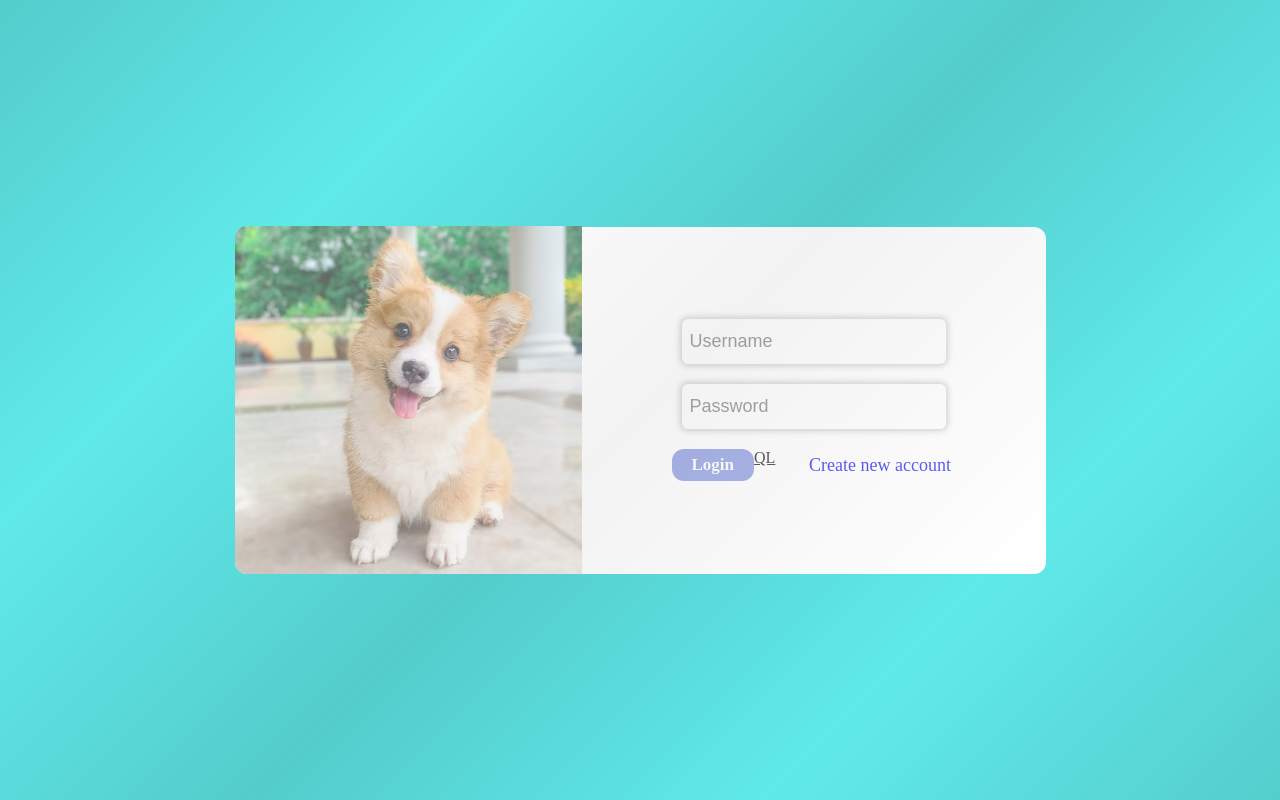
Test case: Fetch API › Create account success will show success message
Click the link with aria-label "sign-up-link": [880, 465] box x1=809 y1=449 x2=951 y2=481
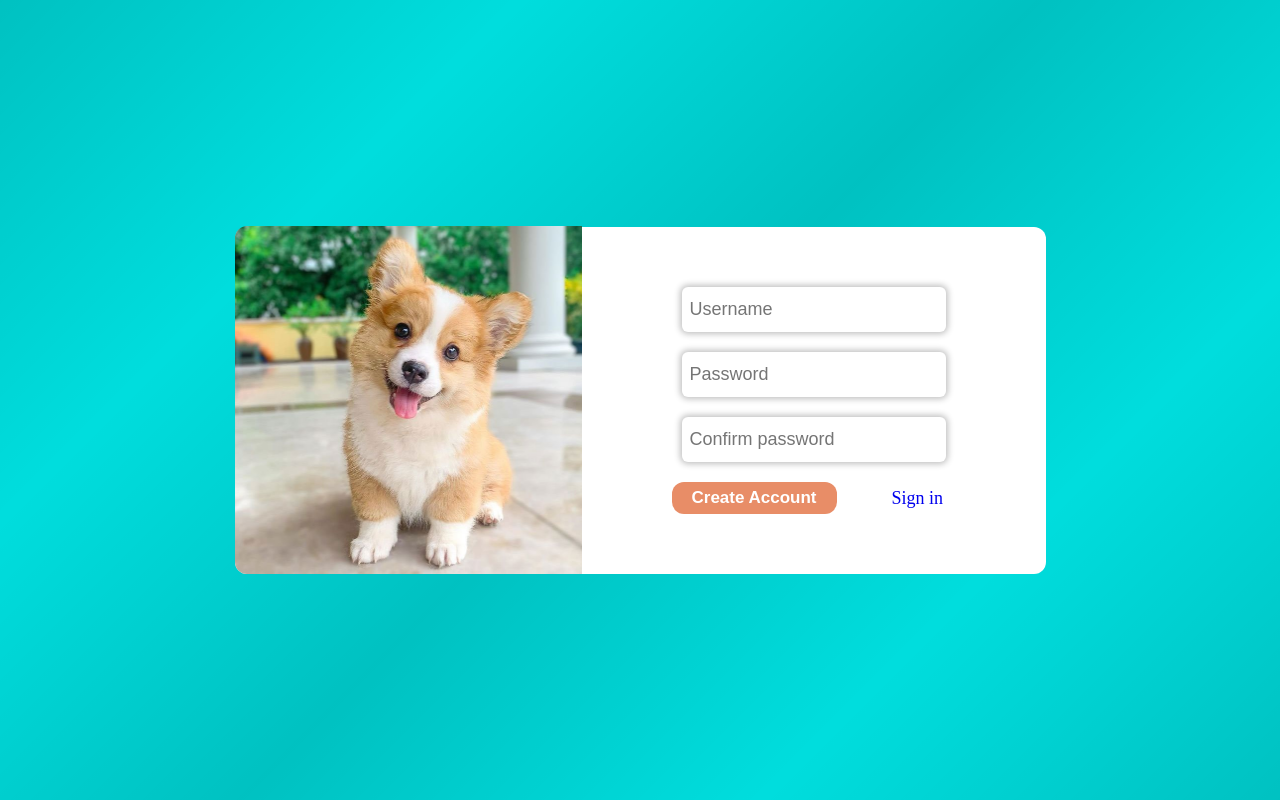
Result: the button with test id "create-account" is shown
Click the button with test id "create-account": [754, 498] box x1=672 y1=482 x2=836 y2=514
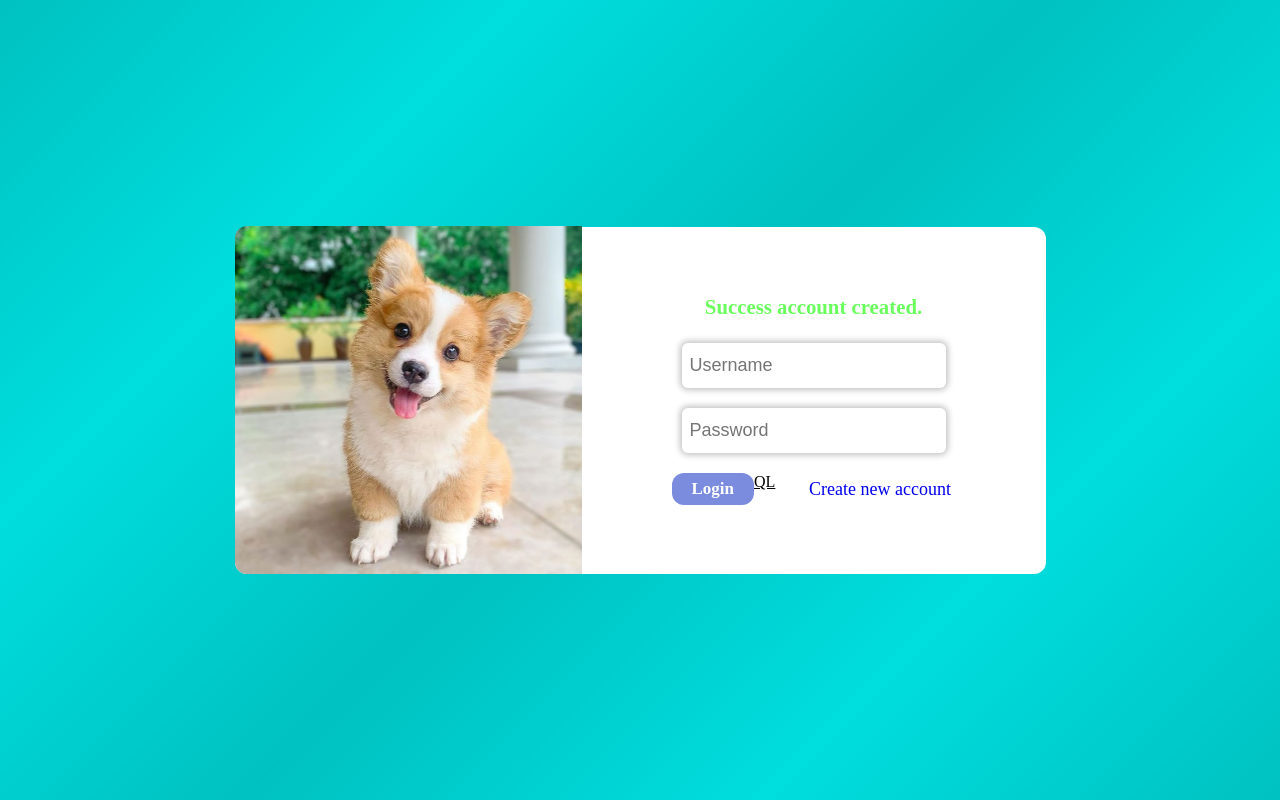
Result: the text named "response-status" reads "Success account created." at x1=705 y1=295 x2=922 y2=318
